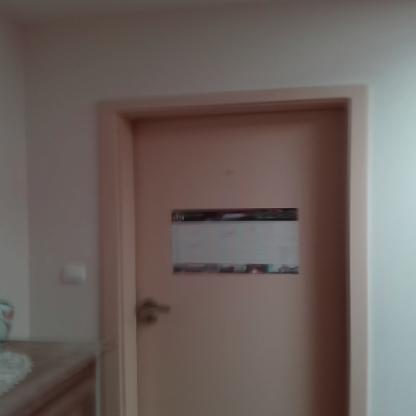door: (136, 112, 354, 416)
lever: (139, 302, 173, 316)
